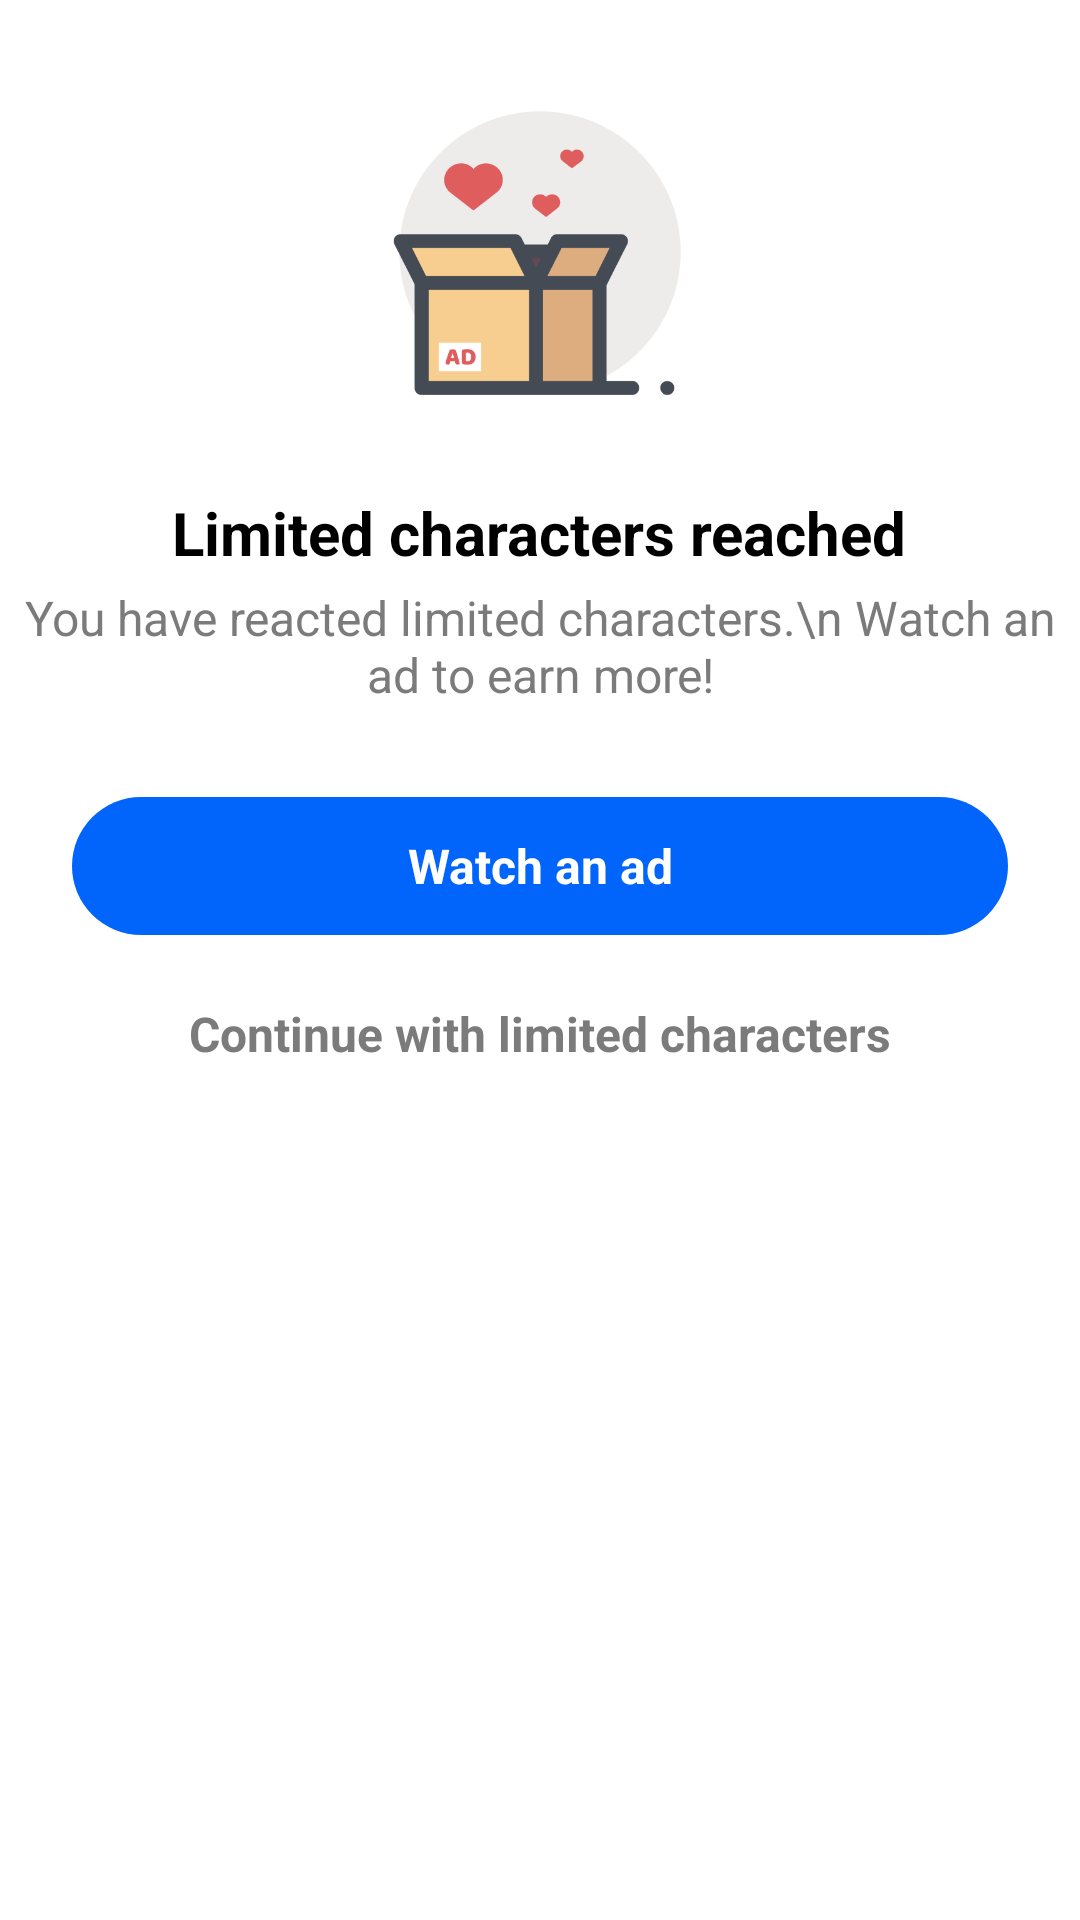

Icons on this 1080 × 1920 Android screen, each with its box as (x1, y1, x2, y2):
box: (393, 111, 681, 395)
